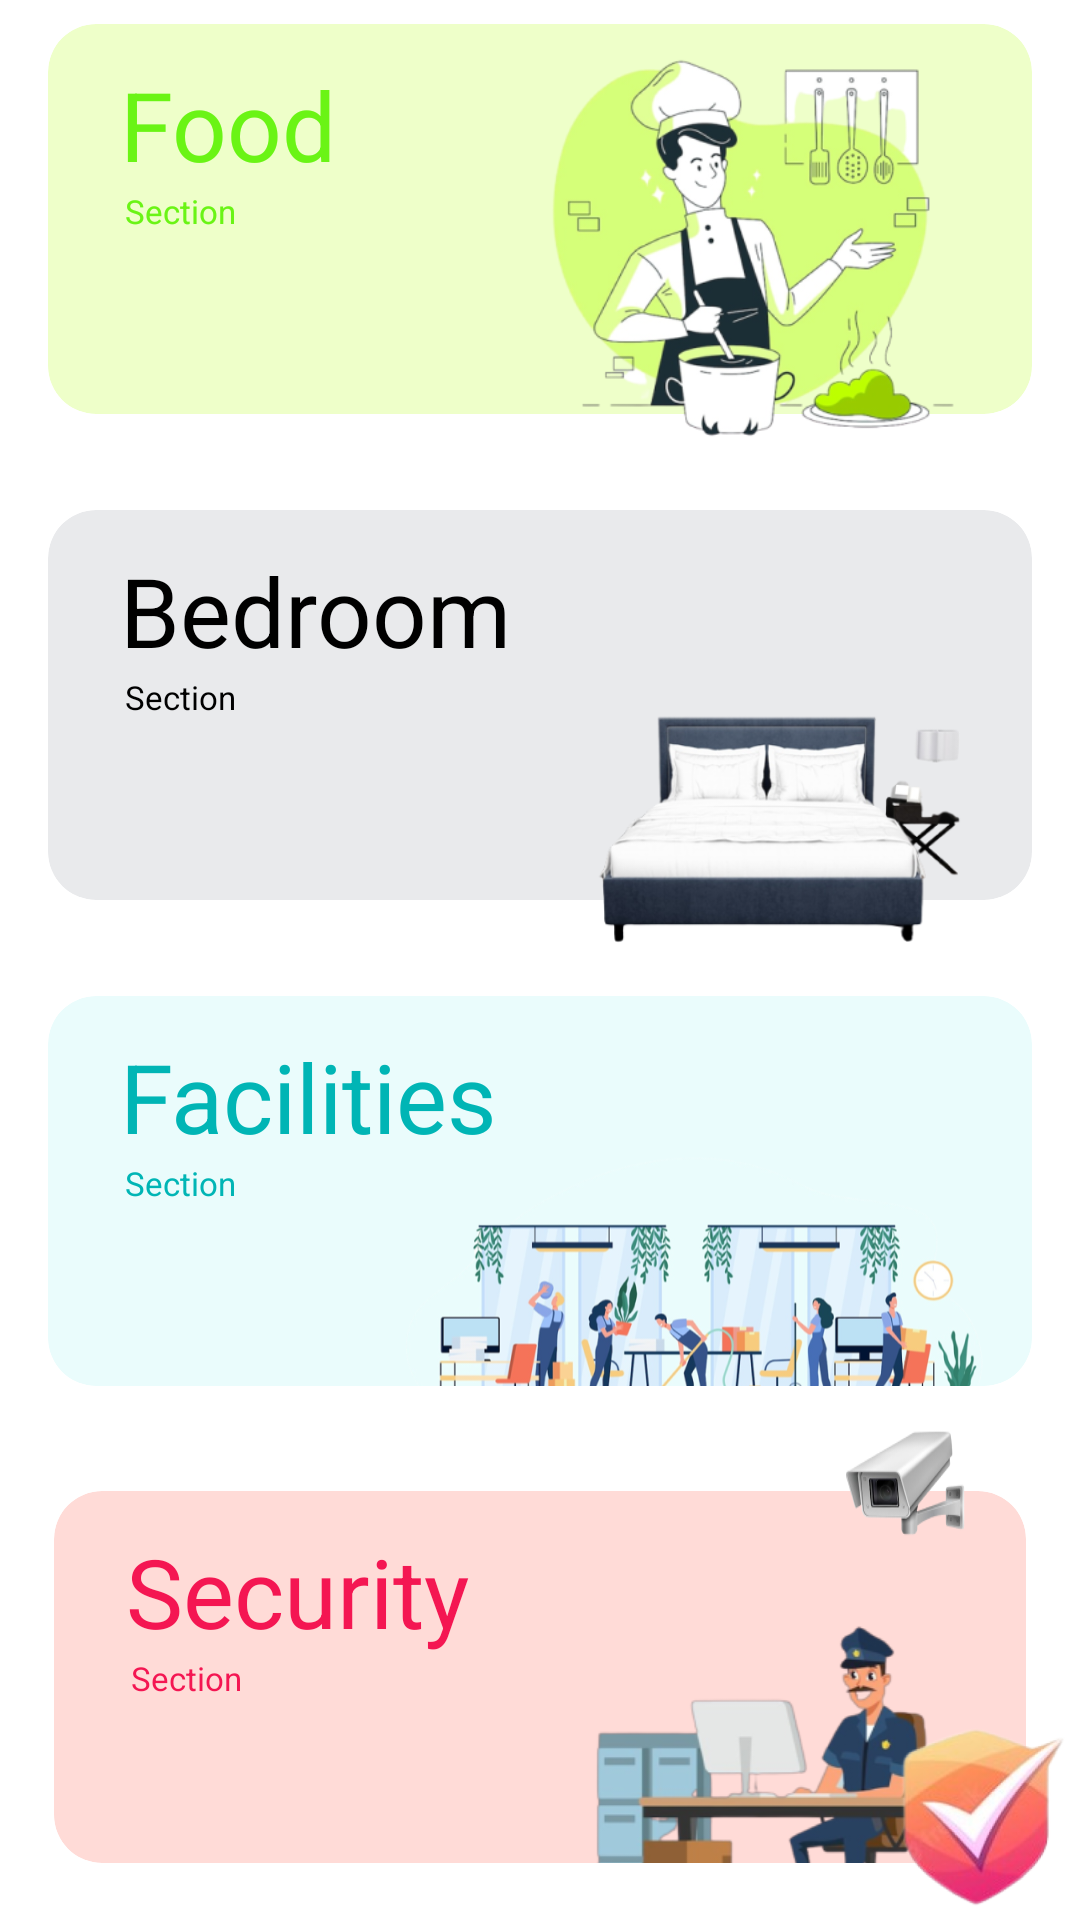

Where to tap for icons on this 1080x1920 app screen, as point (x, y):
im camera: point (909, 1479)
